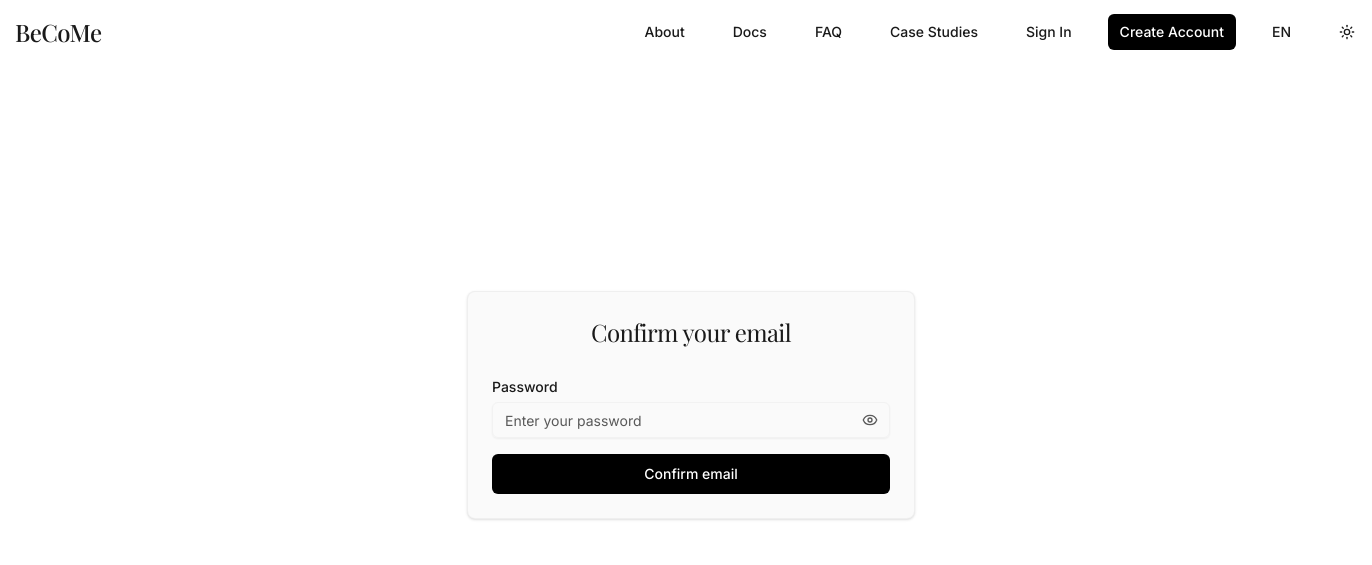
Test case: VerifyEmail › keeps the form and token in place on a 403 (wrong password), without navigating away
The width and height of the screenshot is (1372, 565).
Type "WrongPassword123!" into the password field with placeholder "Enter your password" at (691, 420), box [492,402,890,438]
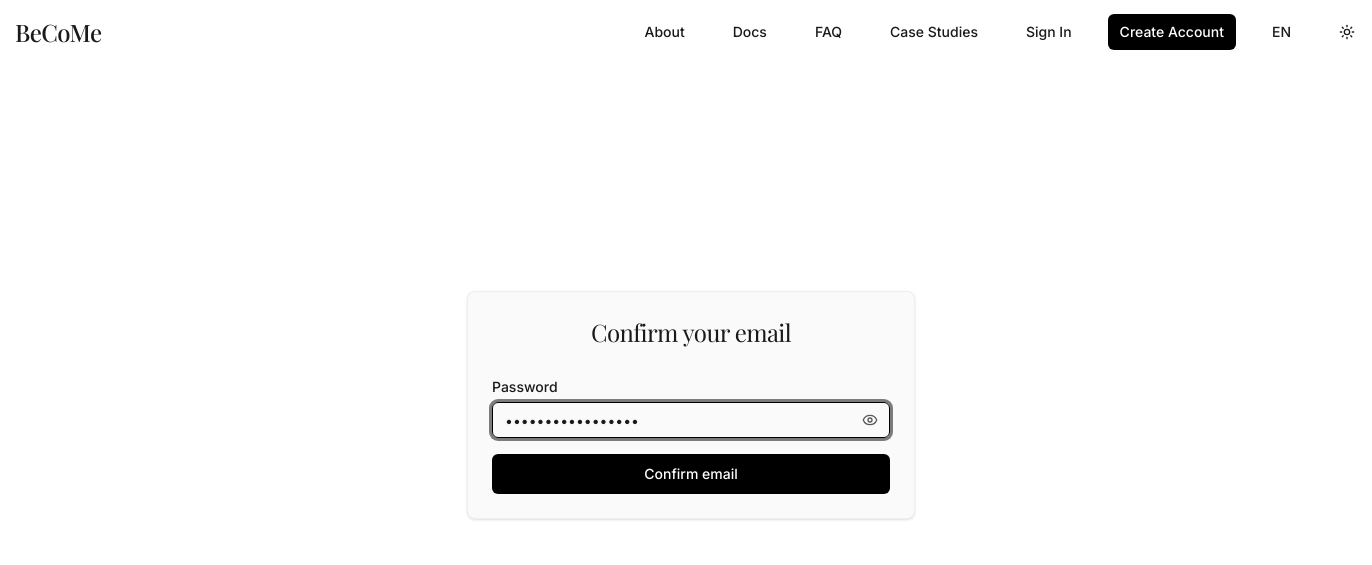
Click the button "Confirm email" at (691, 474), box [492,454,890,494]
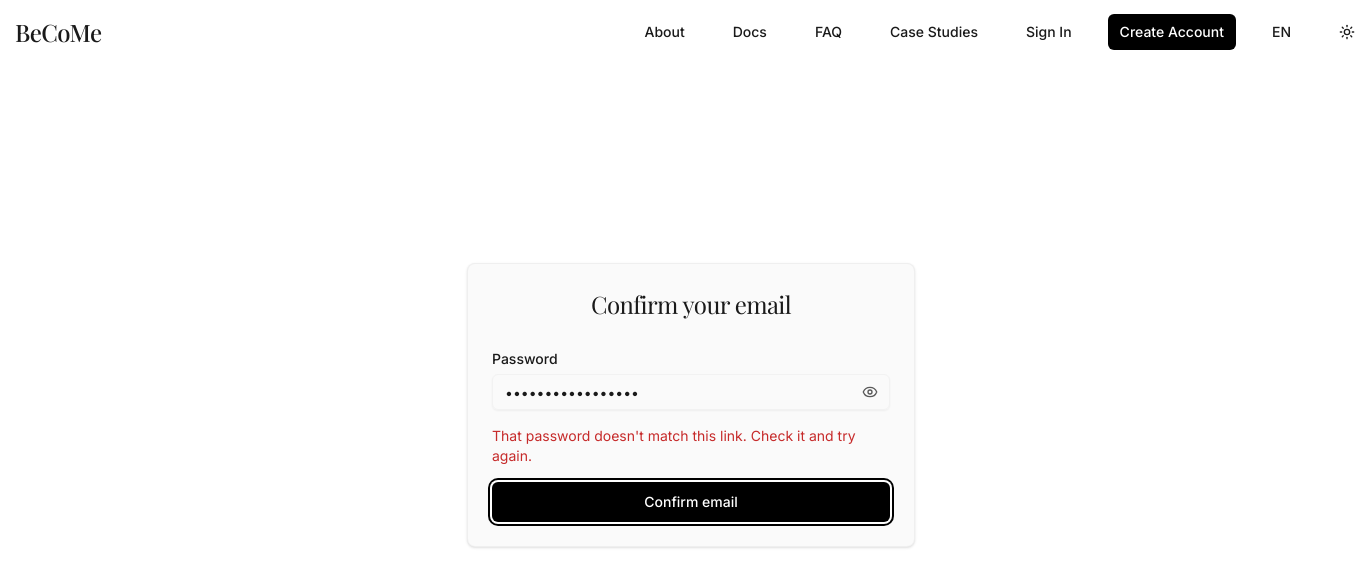
Expected: the button "Confirm email" is shown, [492,482,890,522]
Now the message shows "password", box [492,427,856,464]
